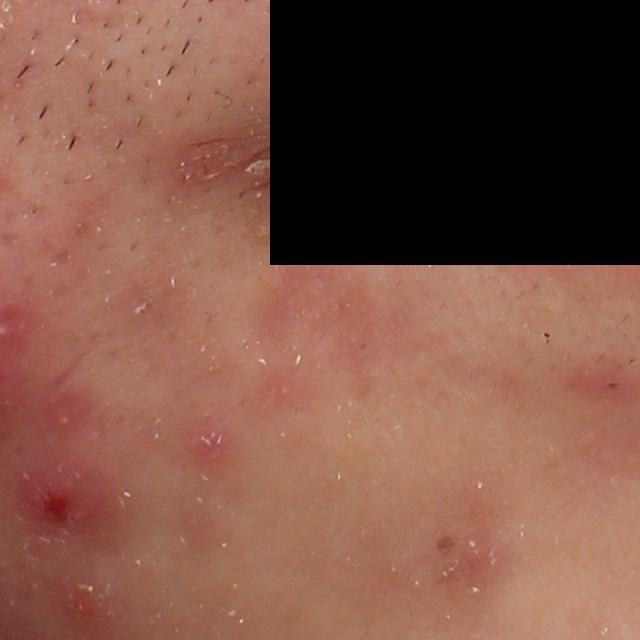papule: (57, 573, 108, 620), (188, 425, 235, 462)
